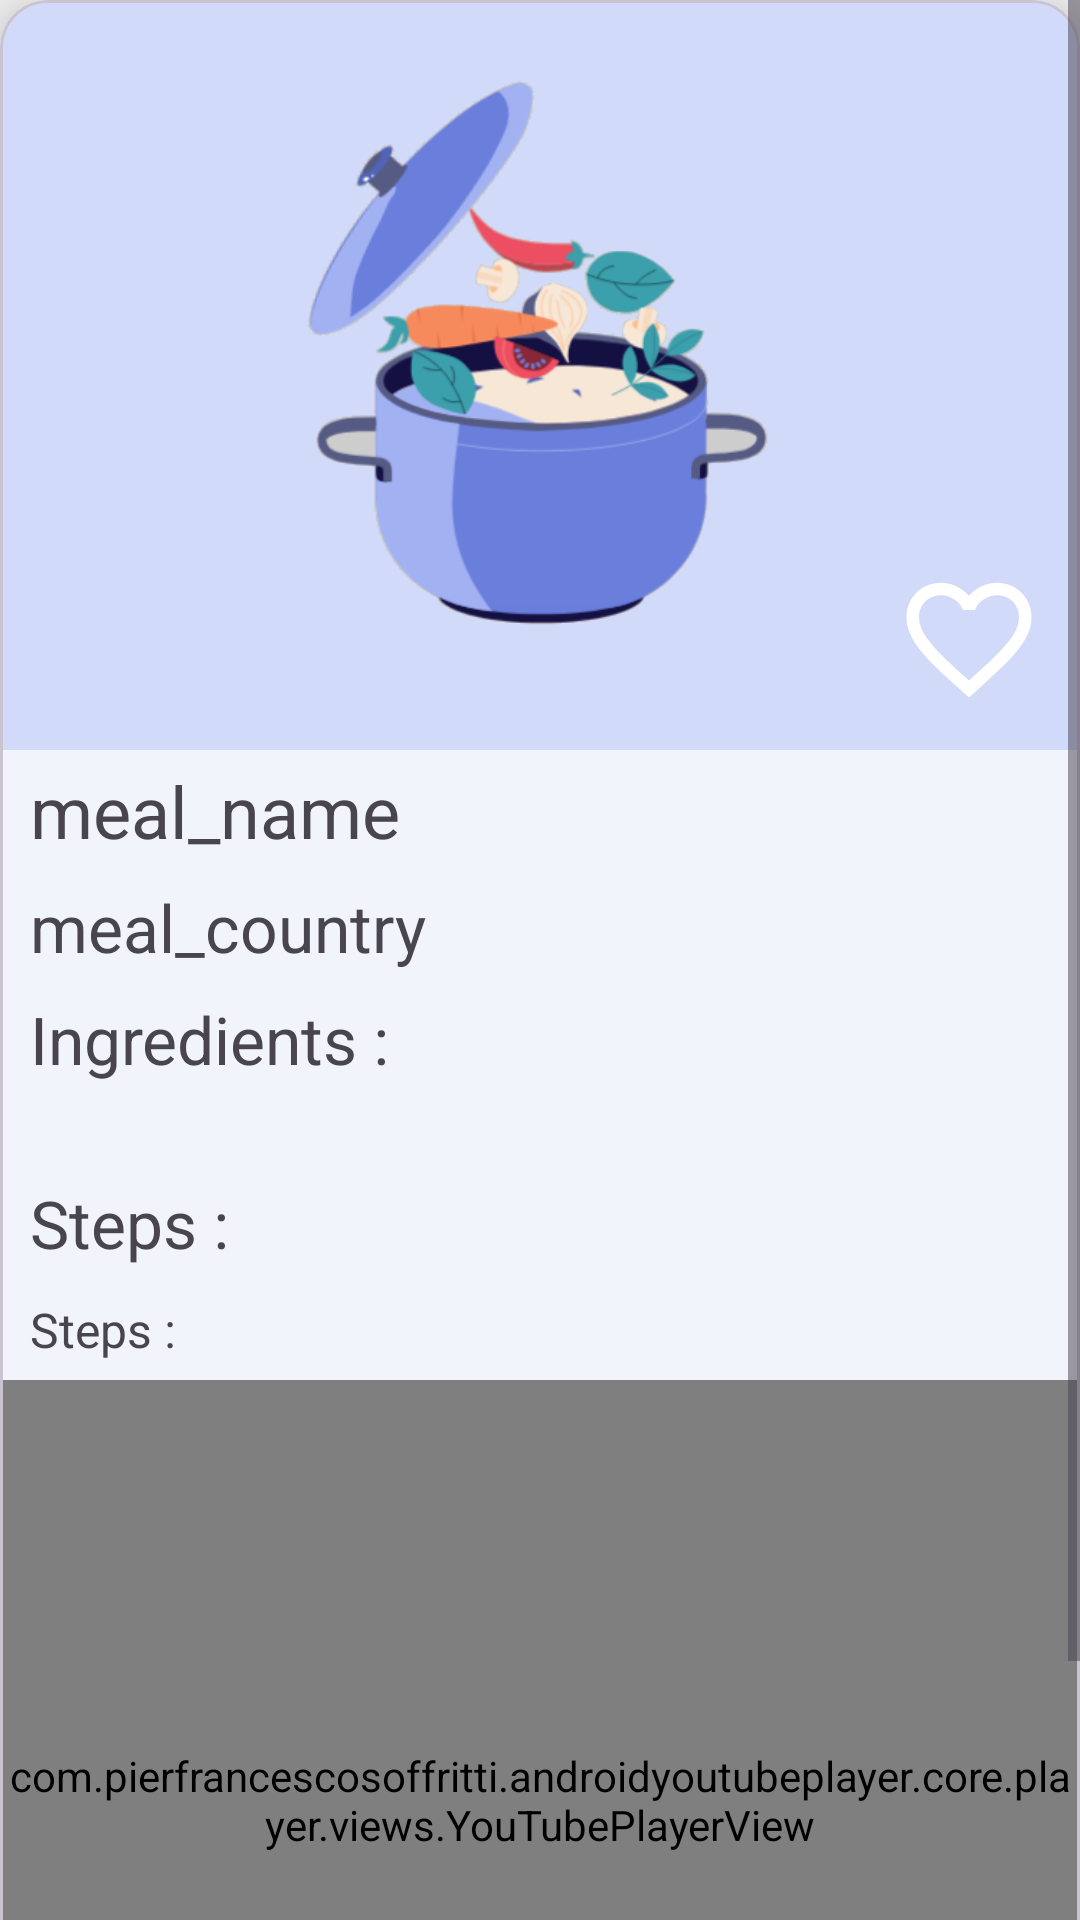

Named icons in this screenshot (1080*1920) and their centers, (x,y):
favorite border: (969,640)
